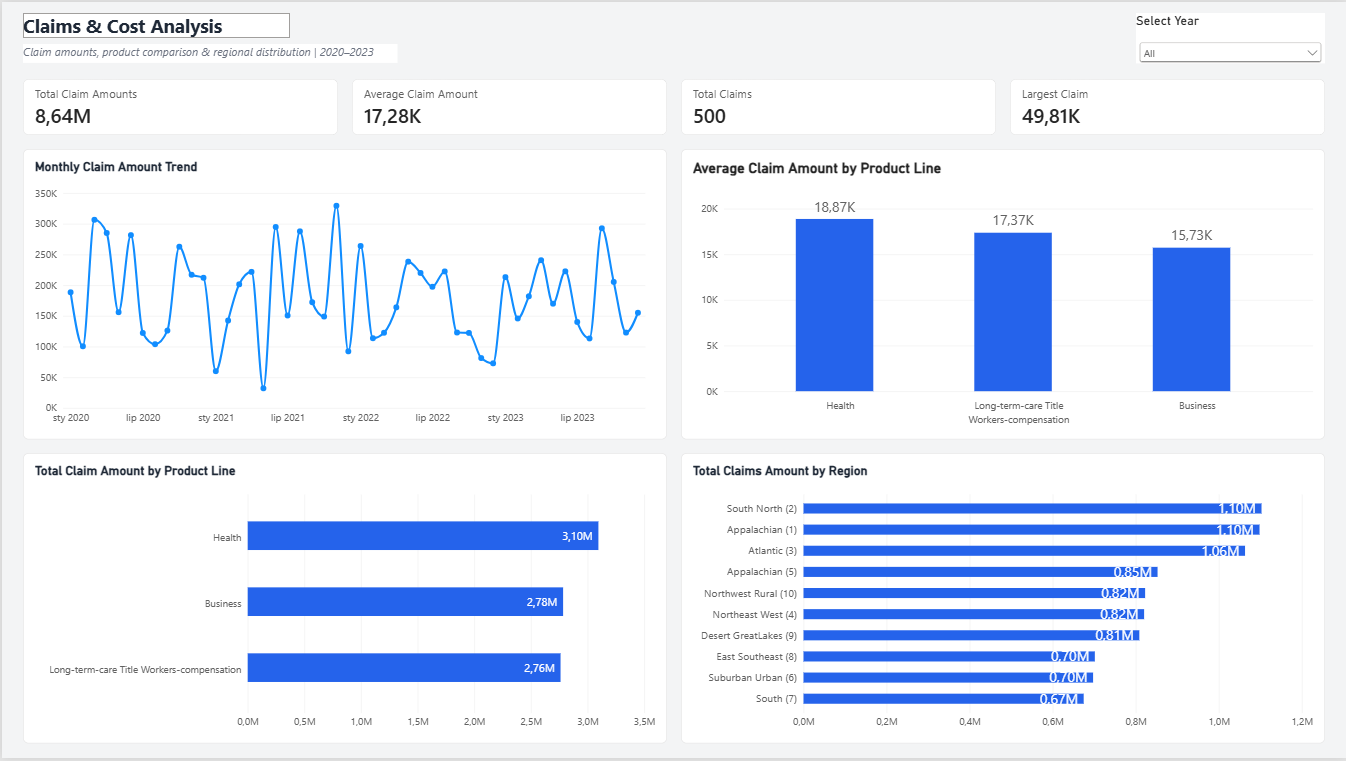

What the dashboard file says about the page in this screenshot:
{"tool":"powerbi","page":{"name":"02 | Claims & Cost Analysis","canvas":[1920,1080],"ordinal":1},"visuals":[{"type":"cardVisual","fields":{"Data":["claims.Total Claim Amounts"]},"box":[30,110,450,80],"z":0},{"type":"cardVisual","fields":{"Data":["claims.Average Claim Amount"]},"box":[500,110,450,80],"z":1000},{"type":"cardVisual","fields":{"Data":["claims.Total Claims"]},"box":[970,110,450,80],"z":2000},{"type":"cardVisual","fields":{"Data":["claims.Largest Claim"]},"box":[1440,110,450,80],"z":3000},{"type":"lineChart","title":"Monthly Claim Amount Trend","fields":{"Y":["claims.Total Claim Amounts"],"Category":["DimCalendar.Month Start"]},"box":[30,210,920.5,415],"z":4000},{"type":"textbox","box":[30,60,535,26.7],"z":5000},{"type":"textbox","box":[30,15,381.2,36],"z":6000},{"type":"clusteredColumnChart","title":"Average Claim Amount by Product Line","fields":{"Category":["product_lines.name"],"Y":["claims.Average Claim Amount"]},"box":[970,210,920.5,415],"z":7000},{"type":"clusteredBarChart","title":"Total Claim Amount by Product Line","fields":{"Y":["claims.Total Claim Amounts"],"Category":["product_lines.name"]},"box":[30,645,920.5,415],"z":8000},{"type":"clusteredBarChart","title":"Total Claims Amount by Region","fields":{"Category":["regions.Region Label"],"Y":["claims.Total Claim Amounts"]},"box":[970,645,920,415],"z":9000},{"type":"slicer","title":"Select Year","fields":{"Values":["DimCalendar.Year"]},"box":[1620,15.6,270,71.7],"z":10000}]}

Visuals, with their boxes in screenshot pixels (x1, y1, x2, y2), scaled from the page's 1920x1080 canvas onto the 1346x761 screenshot:
cardVisual - claims.Total Claim Amounts: bbox=[21, 78, 336, 134]
cardVisual - claims.Average Claim Amount: bbox=[351, 78, 666, 134]
cardVisual - claims.Total Claims: bbox=[680, 78, 995, 134]
cardVisual - claims.Largest Claim: bbox=[1010, 78, 1325, 134]
"Monthly Claim Amount Trend" lineChart: bbox=[21, 148, 666, 440]
textbox: bbox=[21, 42, 396, 61]
textbox: bbox=[21, 11, 288, 36]
"Average Claim Amount by Product Line" clusteredColumnChart: bbox=[680, 148, 1325, 440]
"Total Claim Amount by Product Line" clusteredBarChart: bbox=[21, 454, 666, 747]
"Total Claims Amount by Region" clusteredBarChart: bbox=[680, 454, 1325, 747]
"Select Year" slicer: bbox=[1136, 11, 1325, 62]
